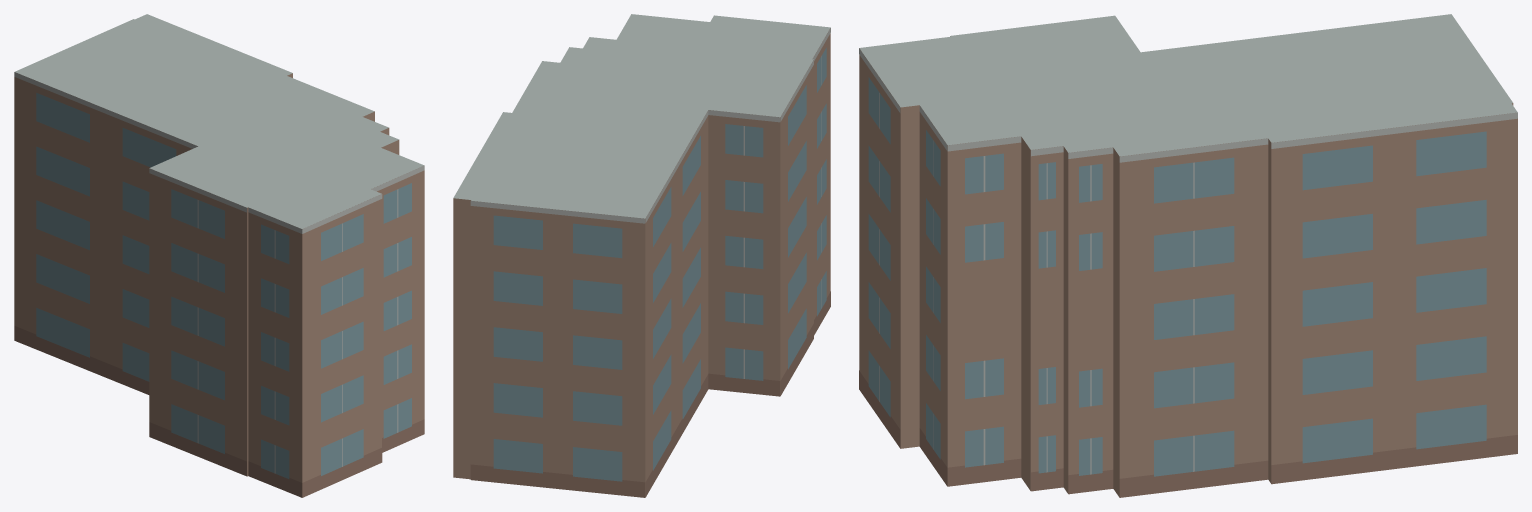
Rendered from survey-upis-32610440.glb.
The picture shows the model from 3 angles, left to right: view 1: azimuth 30°, elevation 25°; view 2: azimuth 150°, elevation 25°; view 3: azimuth 270°, elevation 25°; orthographic projection. The views are drawn at different scales.
Parts seen in each view (by area): view 1: survey-upis-32610440.tmp; view 2: survey-upis-32610440.tmp; view 3: survey-upis-32610440.tmp.
Part boxes in pixels (x1=…): survey-upis-32610440.tmp: x1=14, y1=14, x2=424, y2=497; survey-upis-32610440.tmp: x1=453, y1=14, x2=830, y2=497; survey-upis-32610440.tmp: x1=859, y1=14, x2=1517, y2=497.
Size of the model in its own units: 11.92 by 13.3 by 23.26.
